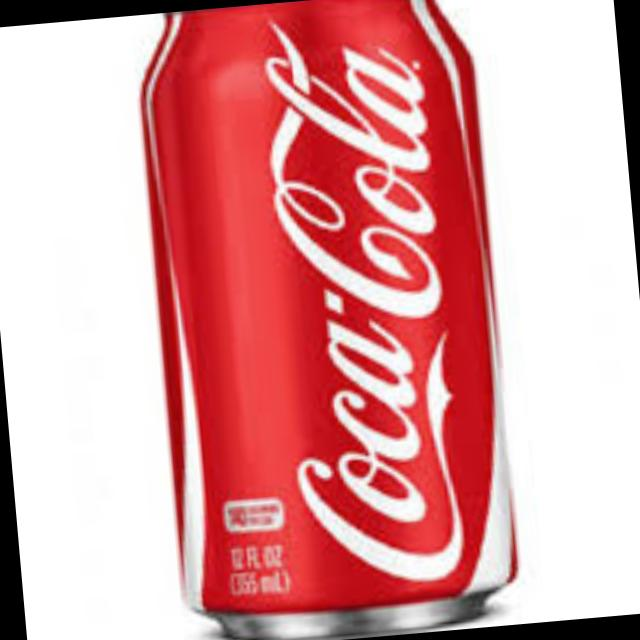metal: (137, 0, 511, 633)
